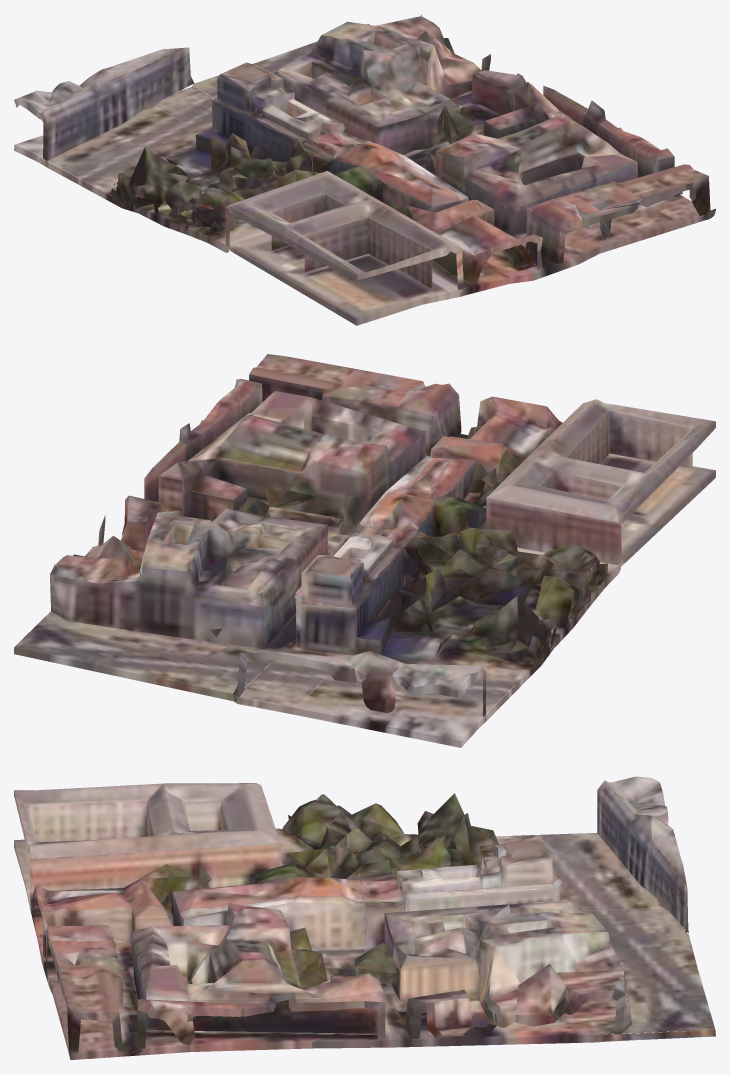
The picture shows the model from 3 angles, top to bottom: view 1: azimuth 30°, elevation 25°; view 2: azimuth 150°, elevation 25°; view 3: azimuth 270°, elevation 25°; orthographic projection. The views are drawn at different scales.
Parts seen in each view (by area): view 1: Mesh_0; view 2: Mesh_0; view 3: Mesh_0.
Boxes of the visible parts, bbox=[...] form: Mesh_0: bbox=[14, 14, 715, 325]; Mesh_0: bbox=[14, 354, 715, 747]; Mesh_0: bbox=[14, 776, 715, 1059].
Size of the model in its own units: 270 by 49.86 by 330.
1 material, 1 textured.
